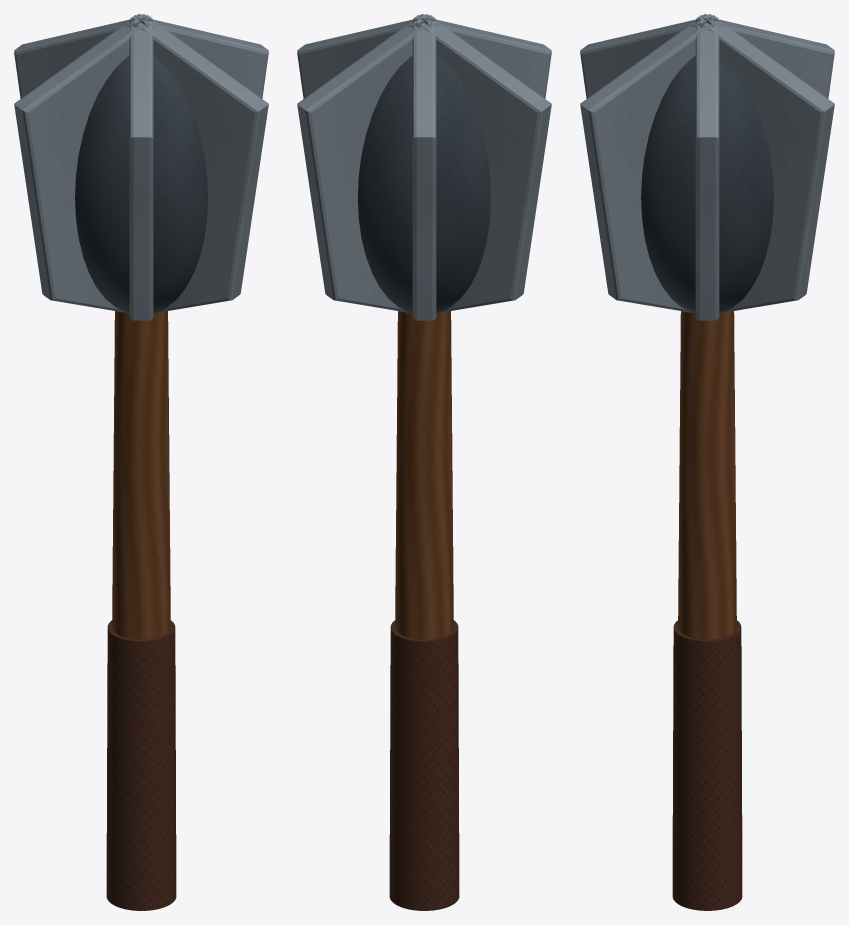
The model's file is flanged-mace.glb.
3 views of the same model, side by side, from view 1: azimuth 30°, elevation 25°; view 2: azimuth 150°, elevation 25°; view 3: azimuth 270°, elevation 25° (orthographic).
Parts seen in each view (by area): view 1: iron.3, leather.1, wood.0, steel.7, steel.9, steel.8, steel.6, steel.4; view 2: iron.3, leather.1, wood.0, steel.7, steel.5, steel.6, steel.4, steel.8; view 3: iron.3, leather.1, wood.0, steel.9, steel.5, steel.4, steel.8, steel.6.
Part boxes in pixels (left/top/right/bottom): iron.3: left=75, top=55, right=208, bottom=313; leather.1: left=106, top=620, right=176, bottom=910; wood.0: left=112, top=311, right=170, bottom=639; steel.7: left=14, top=14, right=148, bottom=312; steel.9: left=134, top=14, right=268, bottom=312; steel.8: left=129, top=16, right=153, bottom=320; steel.6: left=14, top=15, right=148, bottom=98; steel.4: left=134, top=15, right=268, bottom=98; iron.3: left=357, top=55, right=490, bottom=313; leather.1: left=389, top=620, right=459, bottom=910; wood.0: left=395, top=311, right=453, bottom=639; steel.7: left=417, top=14, right=551, bottom=312; steel.5: left=297, top=14, right=431, bottom=312; steel.6: left=412, top=16, right=436, bottom=320; steel.4: left=297, top=15, right=431, bottom=98; steel.8: left=417, top=15, right=551, bottom=98; iron.3: left=641, top=55, right=773, bottom=312; leather.1: left=672, top=620, right=742, bottom=910; wood.0: left=678, top=311, right=736, bottom=639; steel.9: left=580, top=14, right=714, bottom=312; steel.5: left=700, top=14, right=834, bottom=312; steel.4: left=695, top=16, right=719, bottom=320; steel.8: left=580, top=15, right=714, bottom=98; steel.6: left=700, top=15, right=834, bottom=98.
Bounding box in the file's own units: 0.2683 × 0.9145 × 0.2404.
5 materials, 5 textured.
